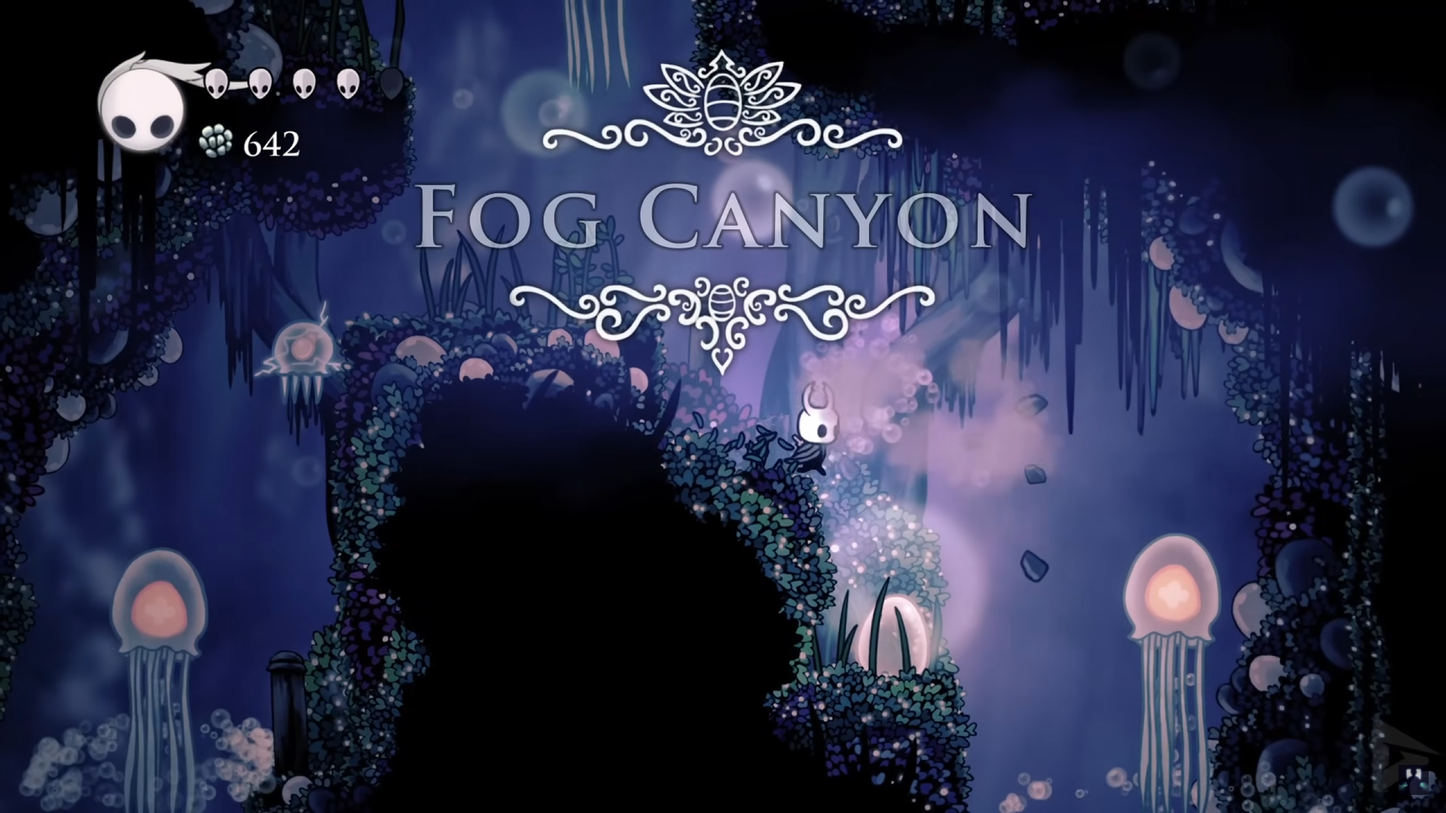HK: (786, 380, 842, 473)
